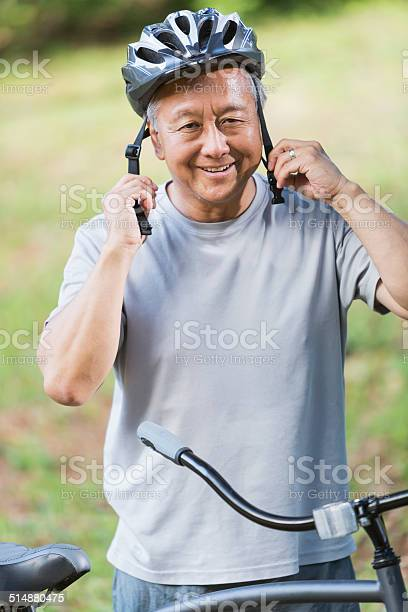helmet: (121, 8, 264, 205)
